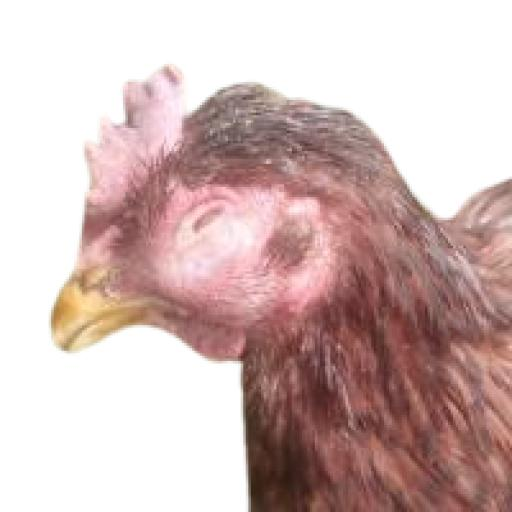disease: (136, 182, 271, 282)
